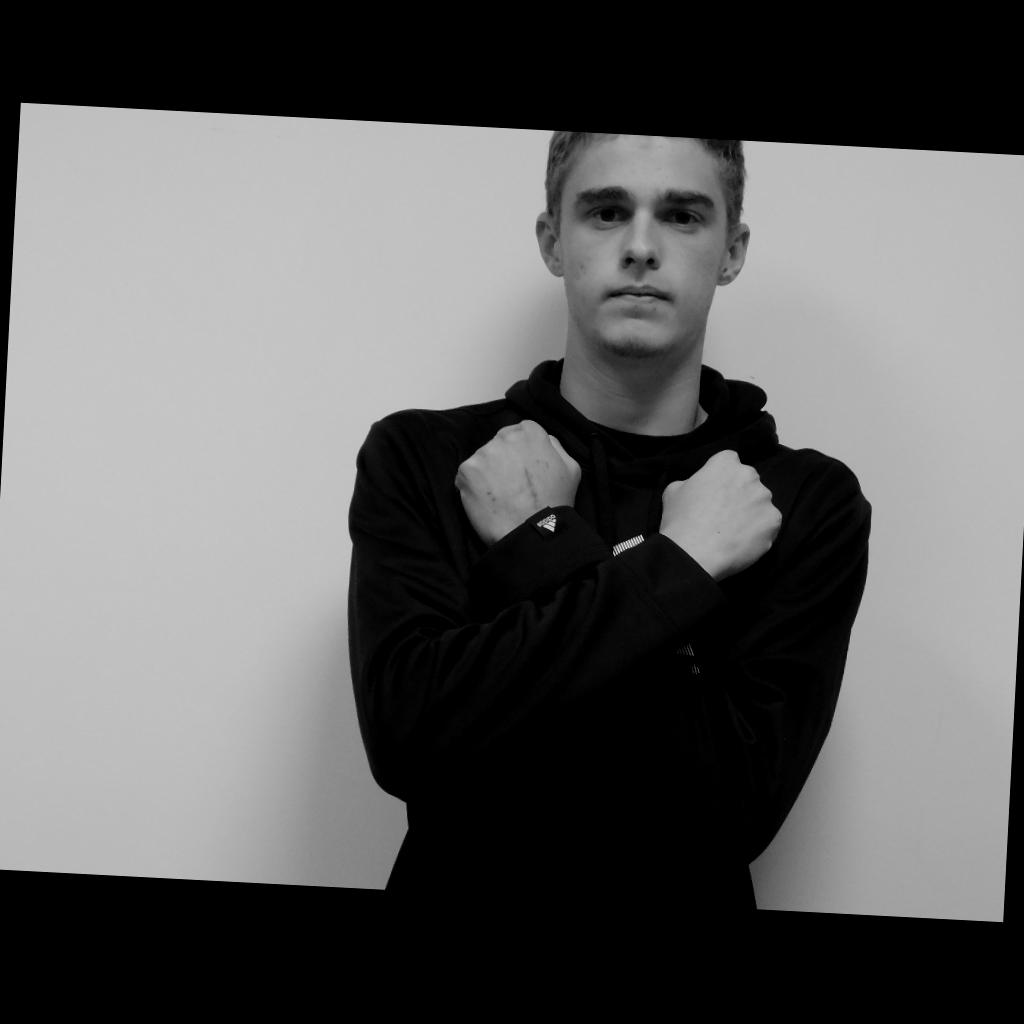love: (452, 415, 788, 582)
